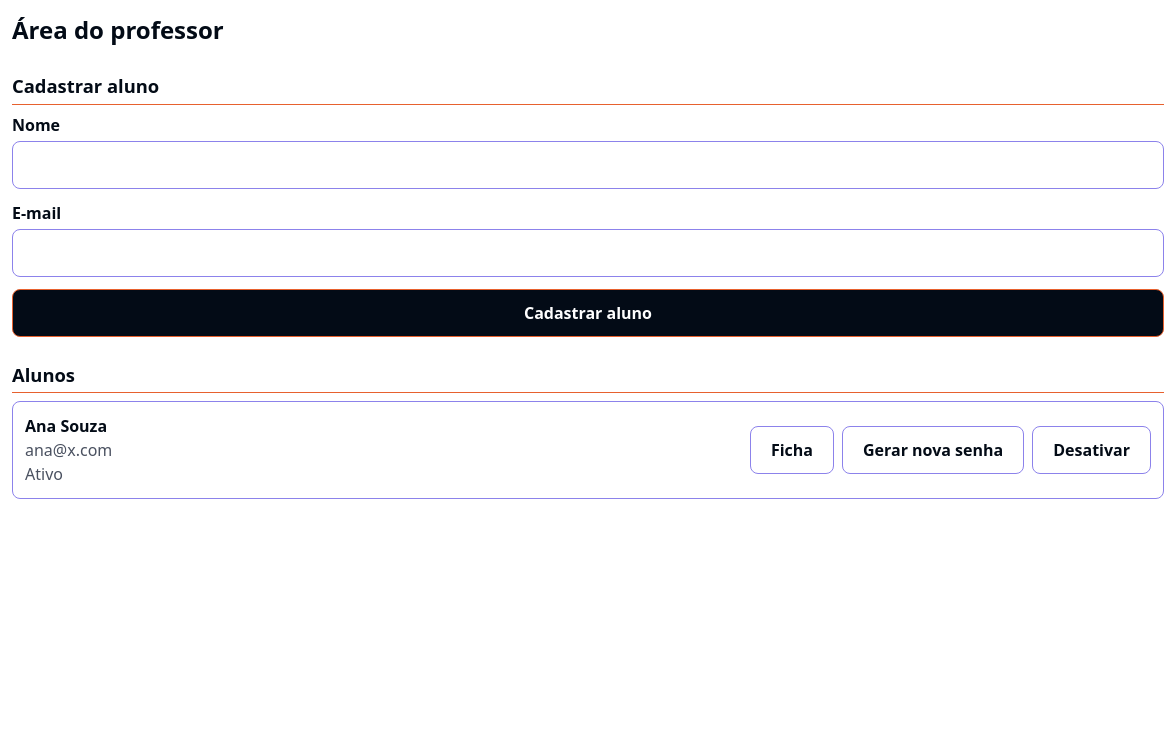
Test case: AreaProfessor › cadastra aluno e mostra a senha provisória
The width and height of the screenshot is (1176, 732).
Type "Bia Lima" into the field labelled "Nome" at (588, 165), box [12,141,1164,189]
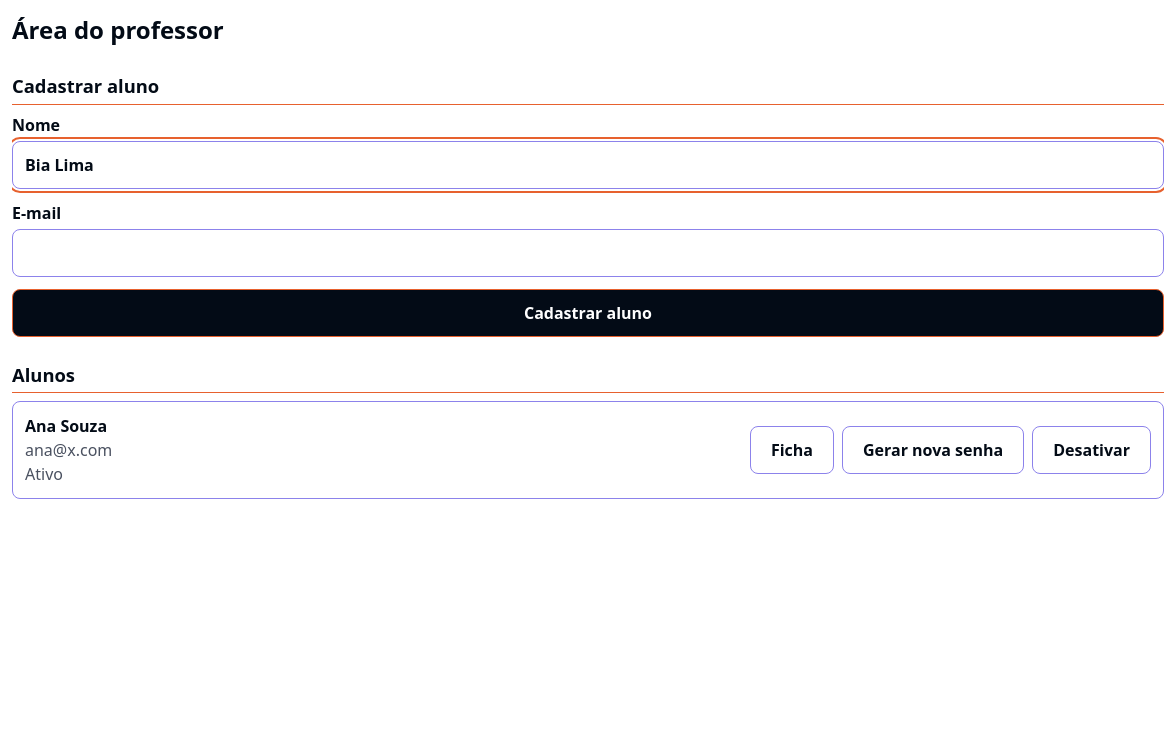
Type "bia@x.com" into the field labelled "E-mail" at (588, 253), box [12,229,1164,277]
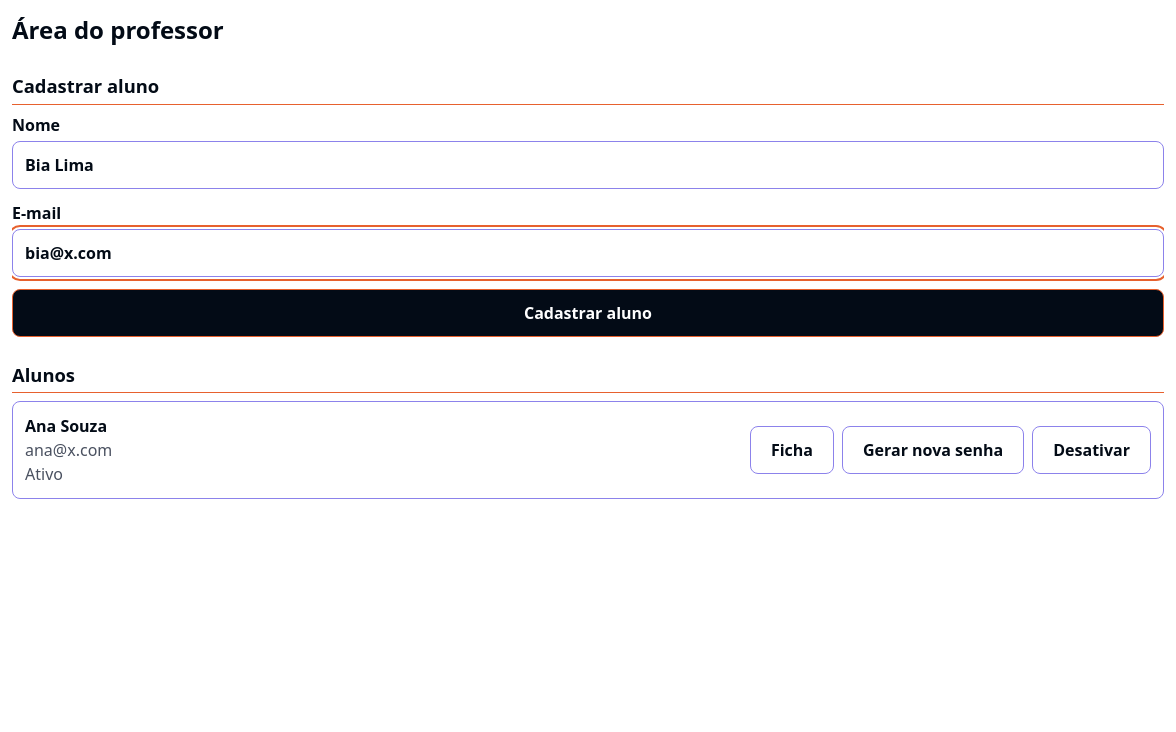
Click the button "Cadastrar aluno" at (588, 313), box [12,289,1164,337]
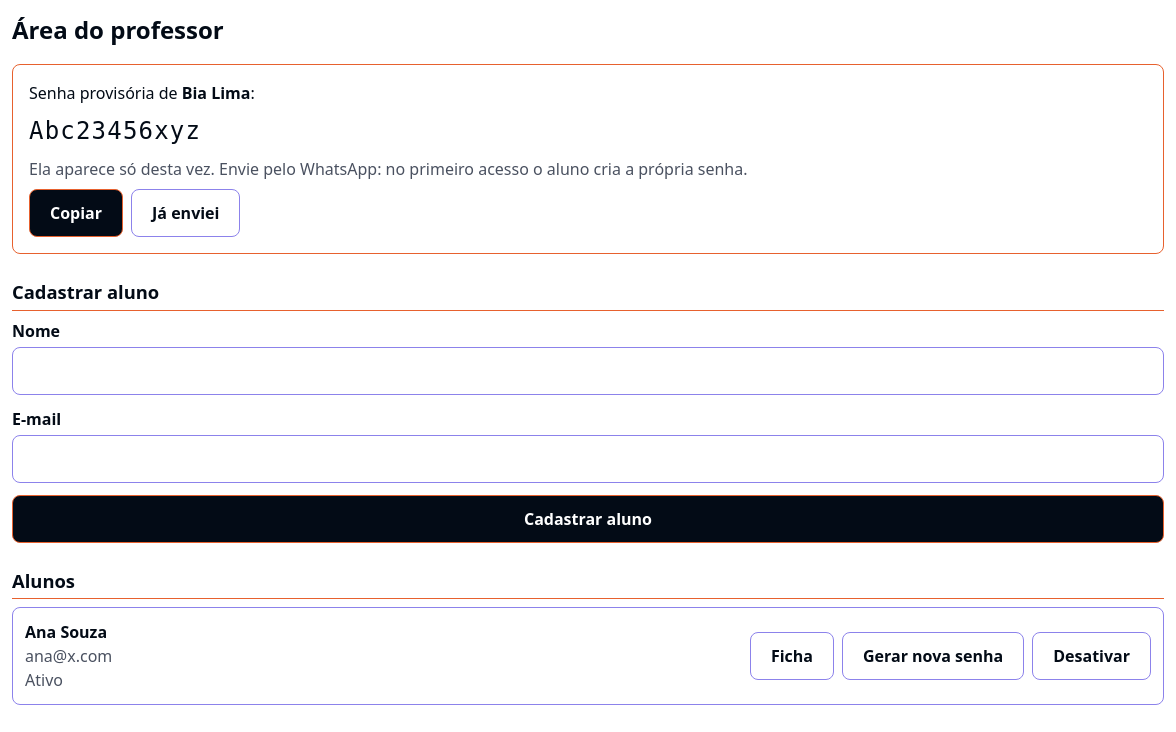
Check: the message shows "Abc23456xyz", box [29,117,201,145]
Check: the message shows "WhatsApp", box [29,158,748,180]
Check: the message shows "só desta vez", box [29,158,748,180]
